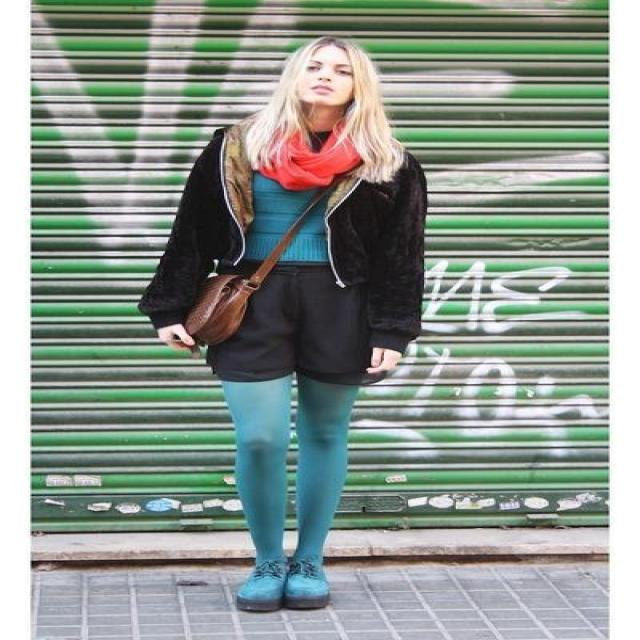bag: (181, 232, 291, 365)
jacket: (134, 139, 478, 358), (234, 175, 347, 268)
shoe: (235, 550, 331, 614)
shorts: (211, 250, 405, 388)
